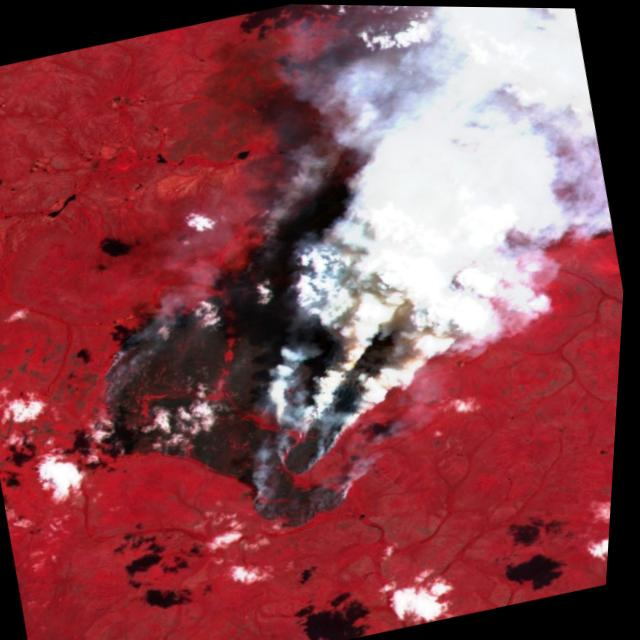fire: (39, 143, 505, 573)
